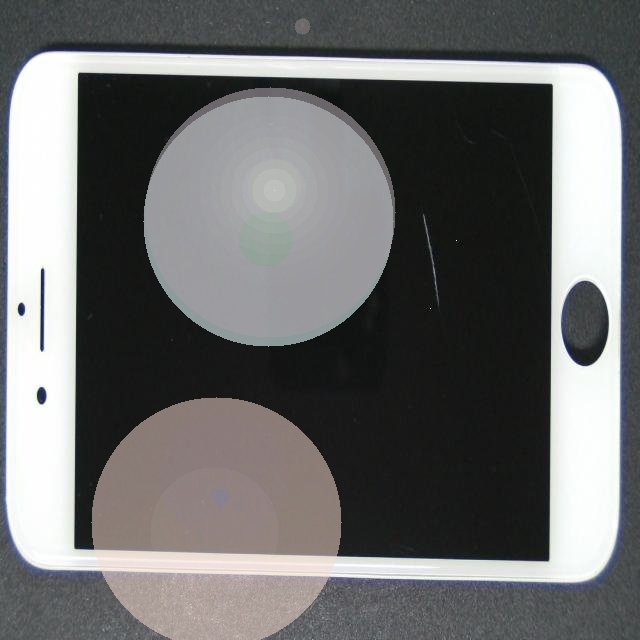scratch: (213, 169, 640, 506)
